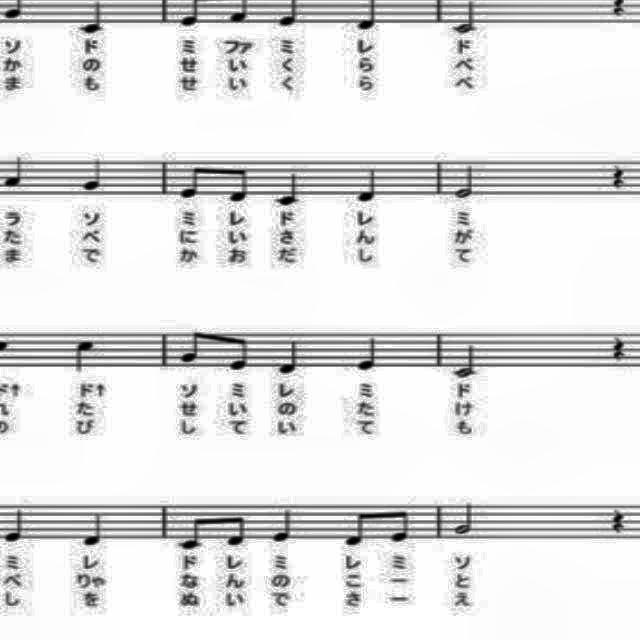Eighth-note: (174, 493, 208, 551), (176, 316, 210, 372), (341, 494, 372, 550), (223, 492, 251, 552), (225, 324, 251, 378), (226, 160, 254, 208), (177, 157, 206, 203), (386, 502, 409, 548)
Half-note: (452, 494, 484, 540), (452, 342, 481, 382), (450, 162, 480, 200)
Quarter-note: (277, 332, 305, 380), (354, 163, 382, 209), (80, 151, 110, 193), (1, 148, 27, 196), (272, 167, 300, 210), (1, 500, 26, 548), (70, 334, 98, 376), (354, 331, 382, 373), (80, 505, 108, 547), (268, 505, 296, 547)
Quarter-rest: (607, 504, 633, 538), (606, 330, 630, 362), (610, 158, 630, 194)
